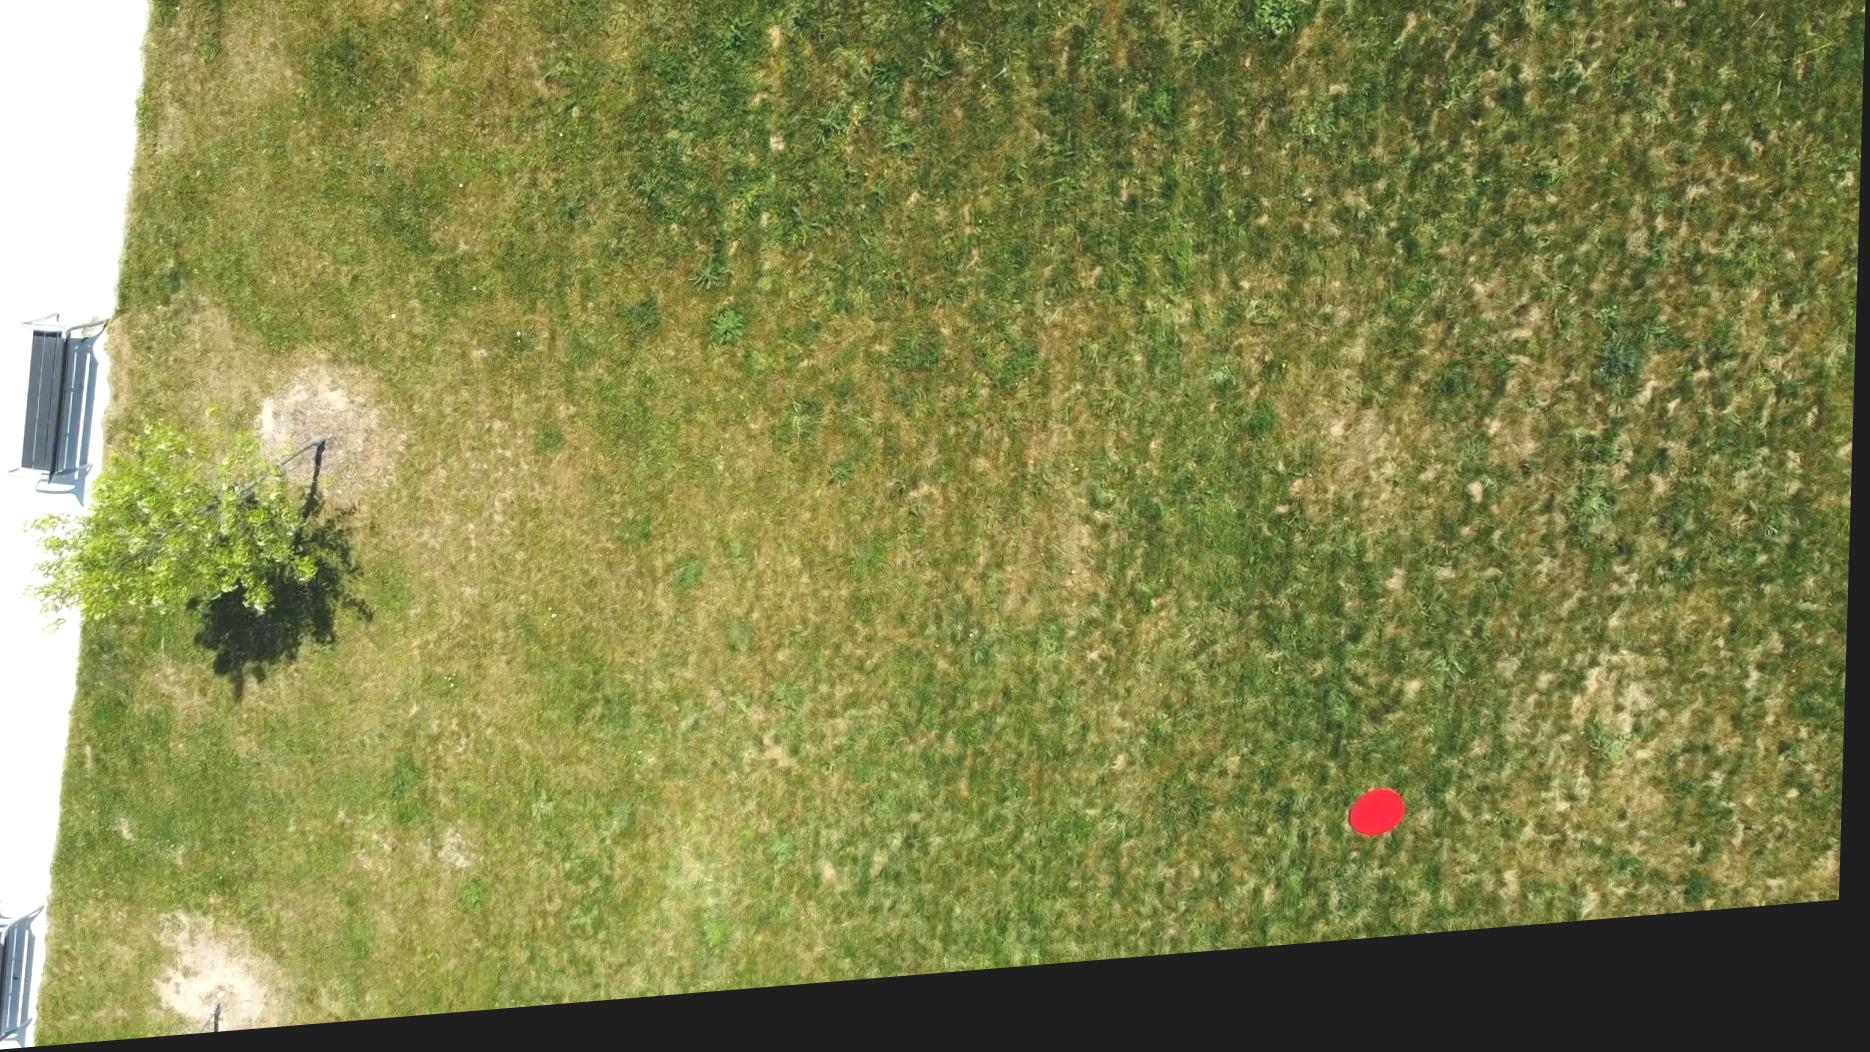Red: (1352, 808, 1417, 864), (1182, 0, 1260, 3)
